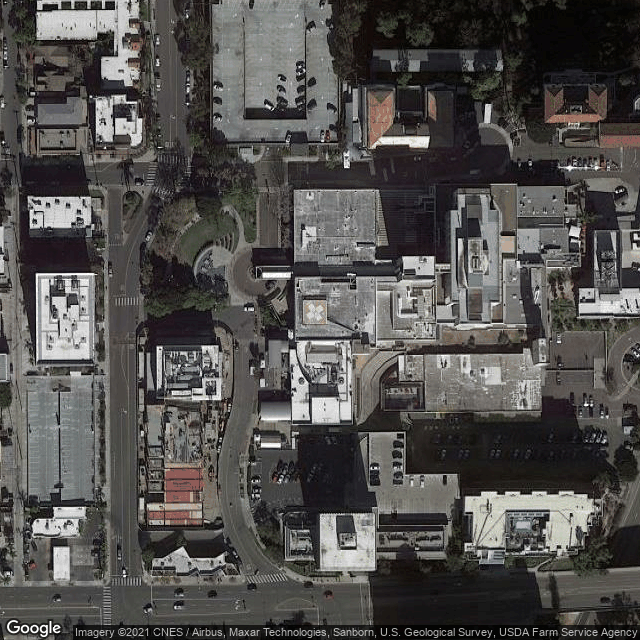Helipad: (300, 296, 329, 325)
